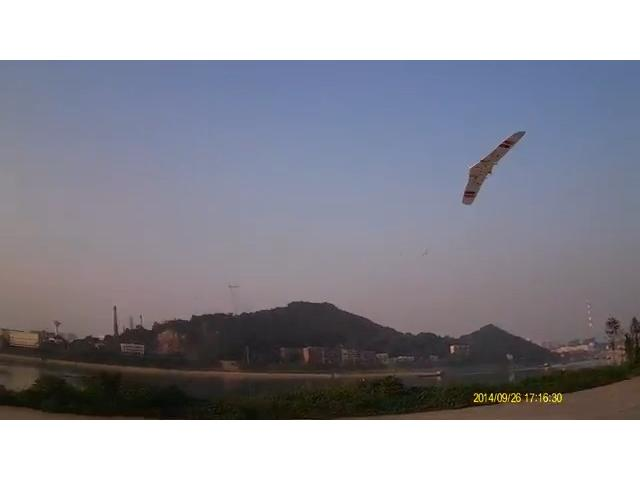Anti-Drone: (422, 125, 574, 215)
